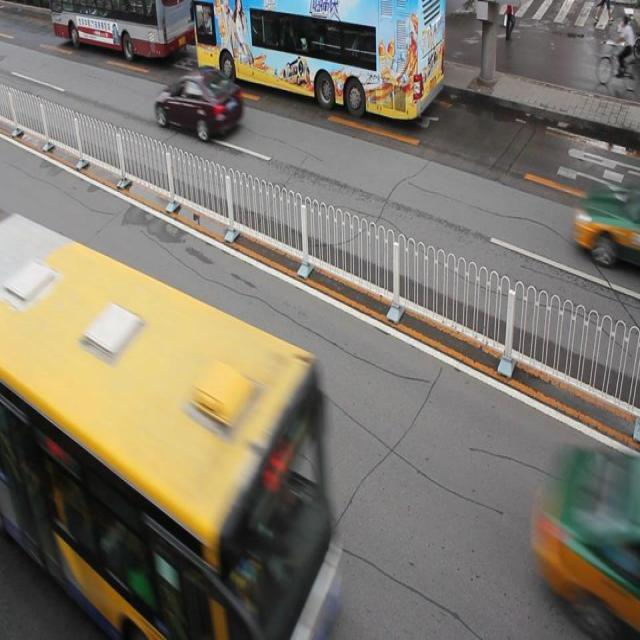car: (544, 436, 640, 640), (154, 67, 243, 139), (572, 181, 640, 266)
van: (1, 212, 334, 640), (192, 2, 444, 118), (51, 1, 193, 58)
